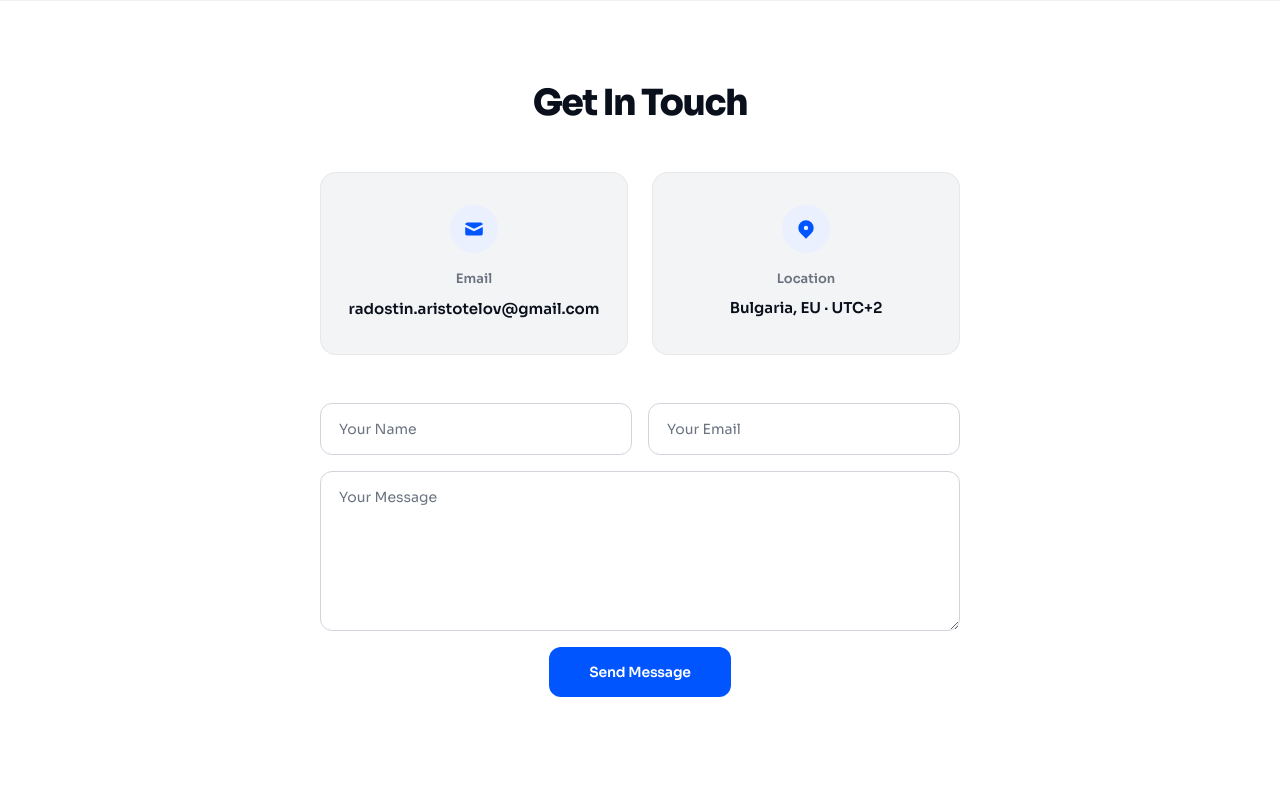
Scenario: Contact form › valid submission › shows the success alert with the status role
The width and height of the screenshot is (1280, 800).
Type "Ada Lovelace" into the field labelled "Your Name" at (476, 429), box [320,403,632,455]
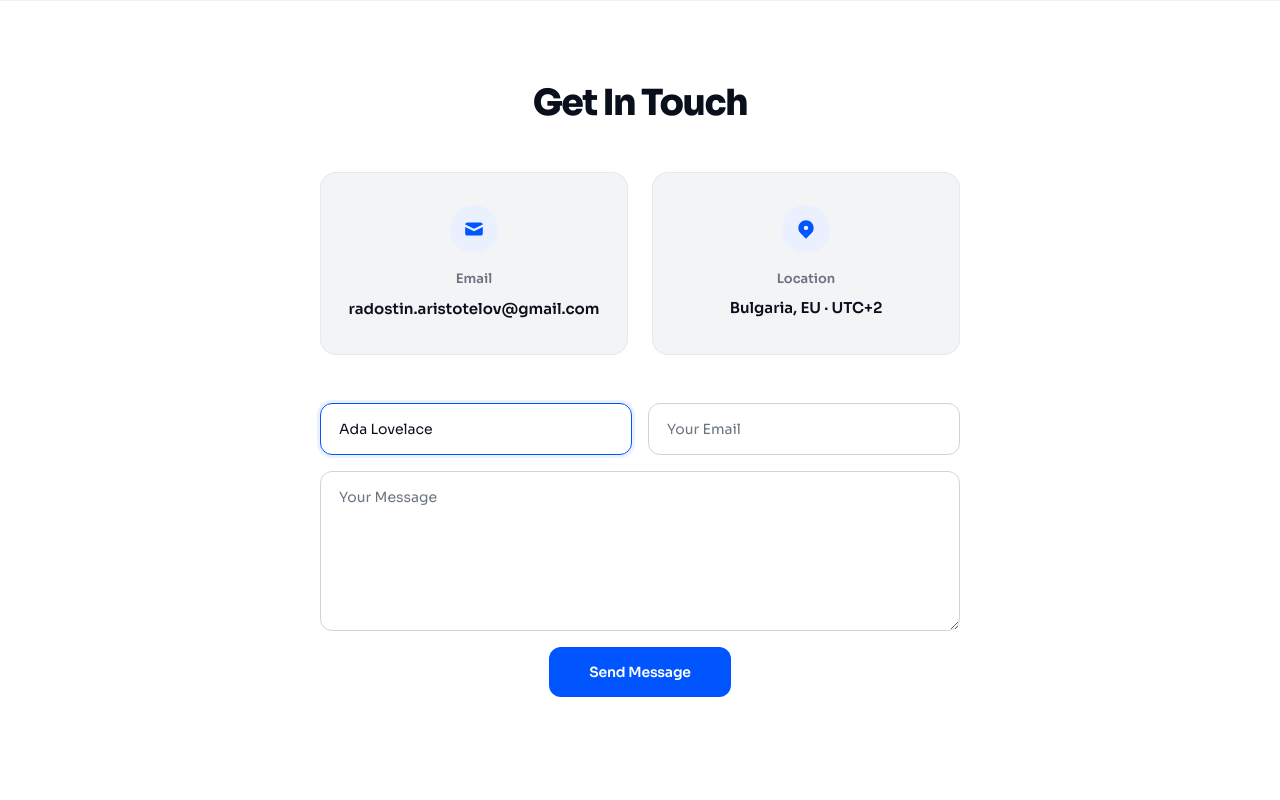
Type "ada@example.com" into the field labelled "Your Email" at (804, 429), box [648,403,960,455]
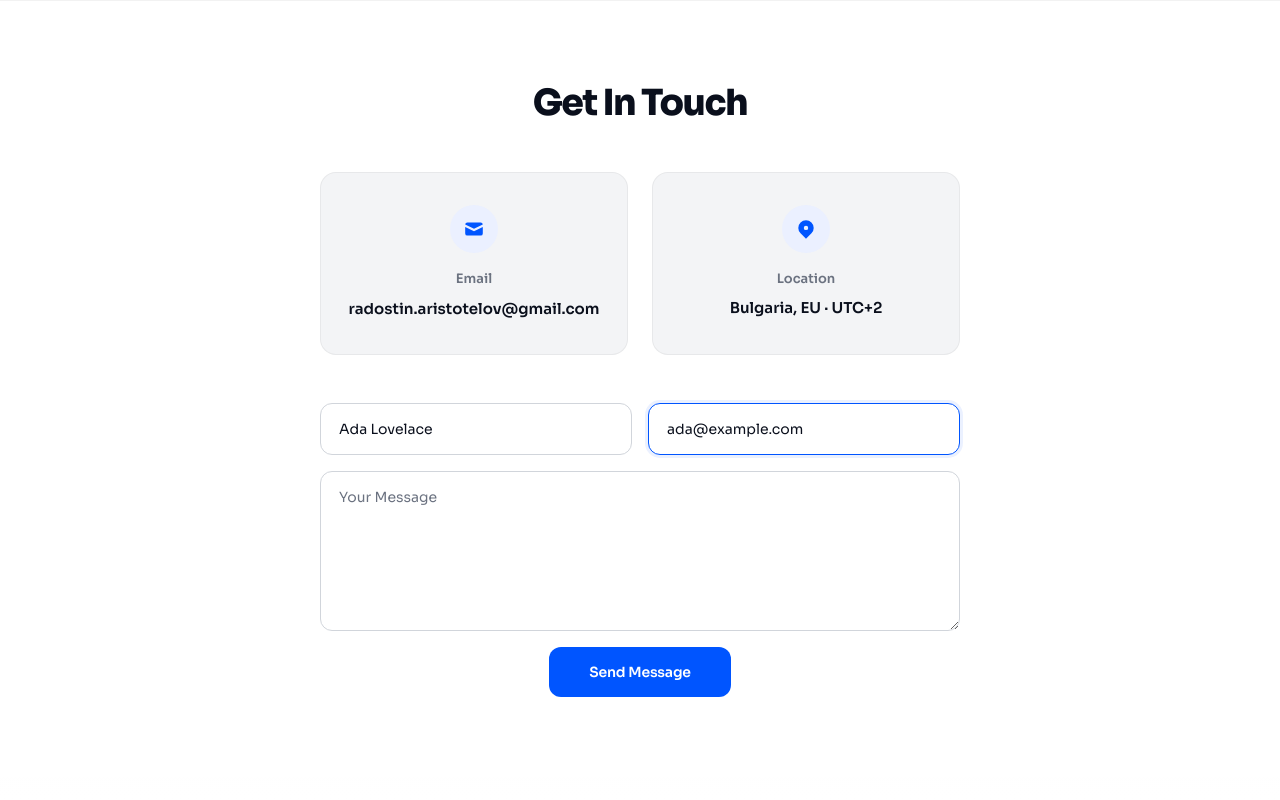
Type "Hello there" into the text box labelled "Your Message" at (640, 551), box [320,471,960,631]
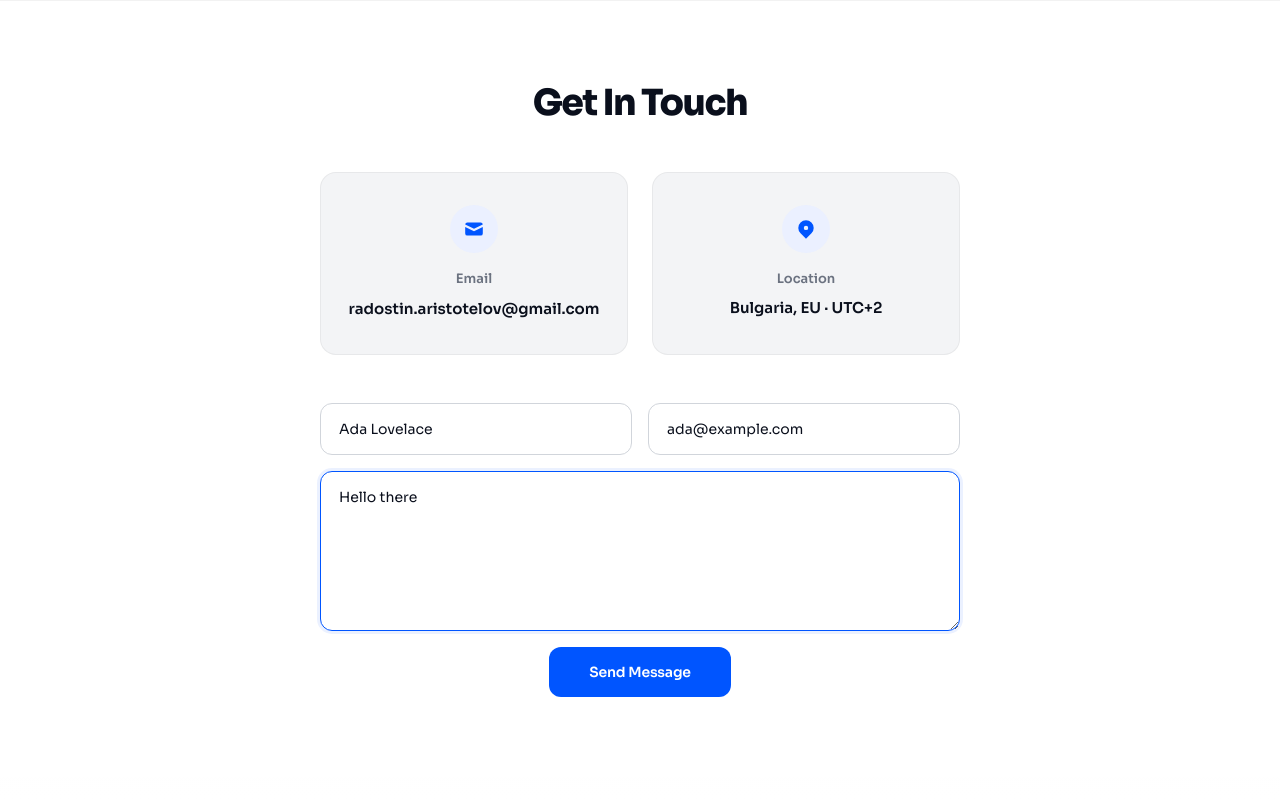
Click the button "Send Message" at (640, 672), box [549,647,731,697]
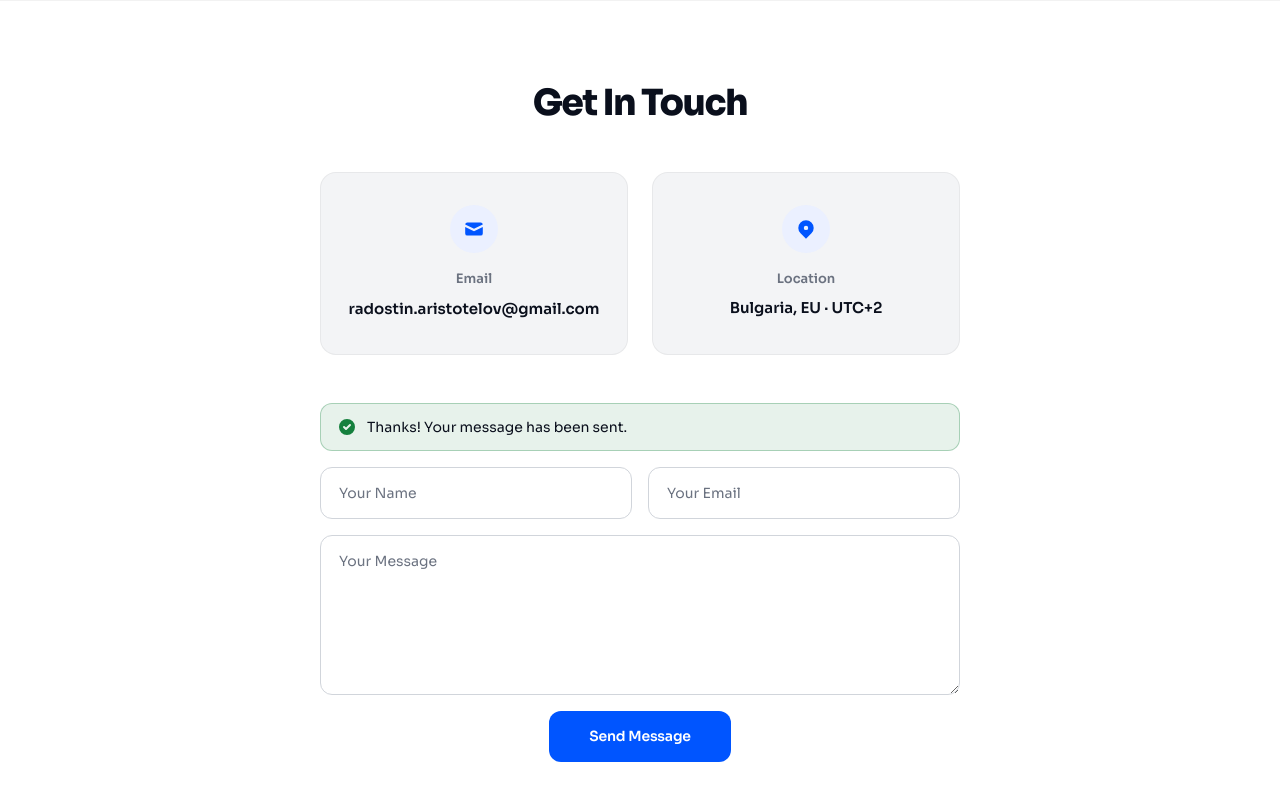
Check: the message reads "Thanks! Your message has been sent.", box [367,418,627,436]
